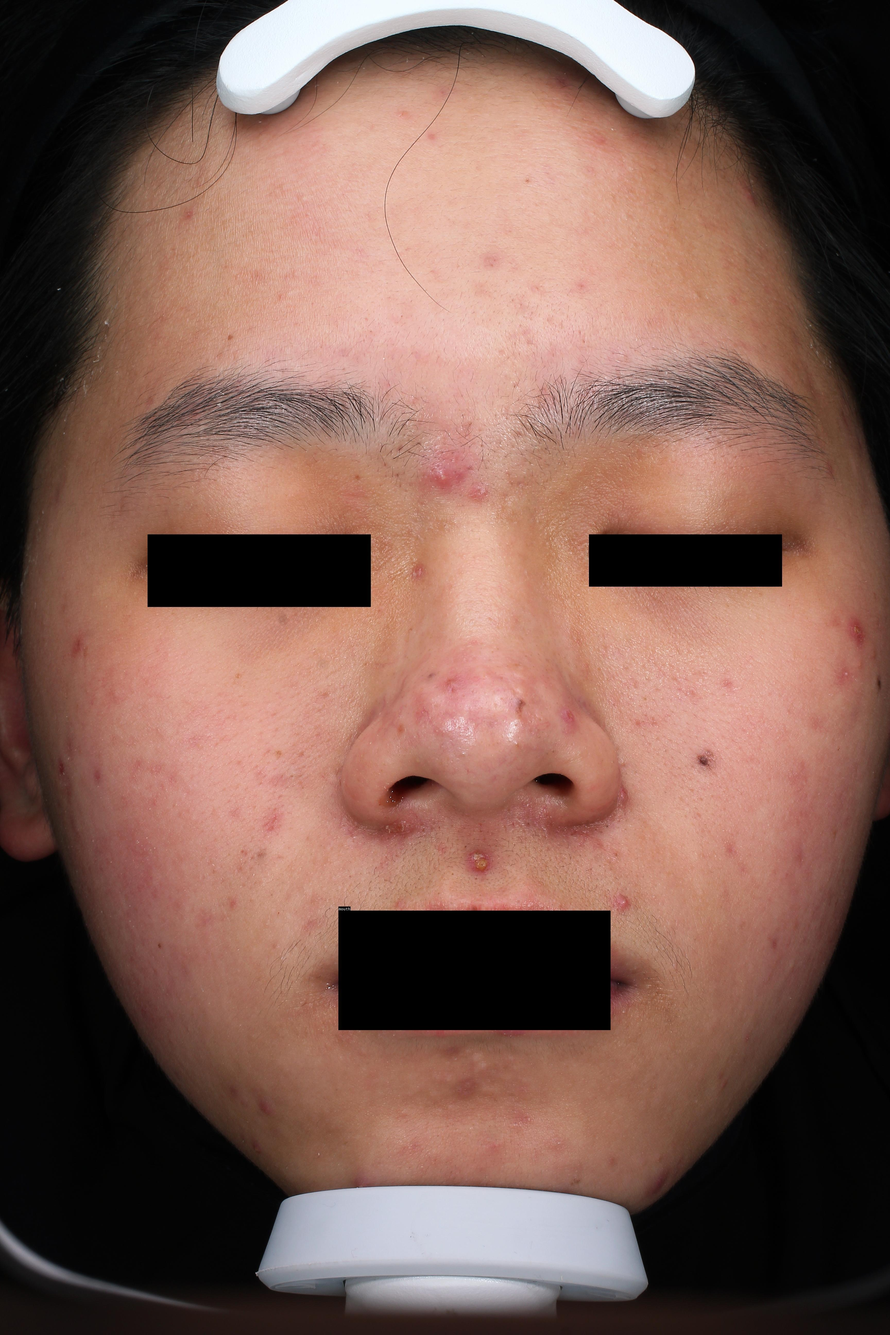atrophic_scar: (521, 327, 534, 346), (264, 815, 278, 832), (460, 421, 473, 436), (496, 348, 507, 358), (59, 759, 65, 777), (319, 691, 329, 699), (249, 856, 254, 861), (239, 850, 245, 854)
closed_comedo: (299, 193, 309, 204), (651, 162, 659, 171), (401, 1108, 409, 1116), (692, 291, 700, 298), (789, 960, 795, 969), (622, 211, 628, 219), (322, 944, 328, 949), (199, 744, 203, 748), (173, 803, 178, 806), (209, 743, 211, 747)
hypertrophic_scar: (382, 658, 461, 728), (453, 664, 518, 723), (439, 717, 473, 756), (504, 716, 537, 745), (419, 685, 449, 716), (509, 661, 534, 683), (472, 1051, 489, 1073), (482, 1083, 505, 1098), (513, 681, 529, 697), (435, 1074, 454, 1083)
nevus: (696, 755, 710, 768), (515, 698, 526, 714), (877, 676, 882, 690), (227, 334, 234, 341), (157, 942, 162, 950)
nodule: (647, 1165, 670, 1196)
open_comedo: (399, 313, 406, 320), (613, 851, 619, 858), (290, 774, 295, 778), (605, 824, 609, 829), (450, 872, 454, 876), (443, 524, 447, 527), (594, 828, 597, 832)
other: (277, 611, 289, 626), (315, 659, 330, 671)
papule: (390, 817, 412, 834), (741, 186, 757, 203), (559, 707, 574, 723), (258, 1099, 272, 1116), (850, 621, 862, 639), (472, 485, 487, 498), (446, 679, 459, 691), (252, 1140, 262, 1155), (412, 566, 423, 578), (620, 786, 628, 800), (720, 1078, 729, 1090), (869, 647, 877, 659), (395, 900, 403, 909), (113, 690, 121, 698), (857, 661, 862, 669)
pustule: (469, 847, 491, 872), (435, 467, 451, 485), (617, 895, 629, 911), (840, 669, 850, 680)
